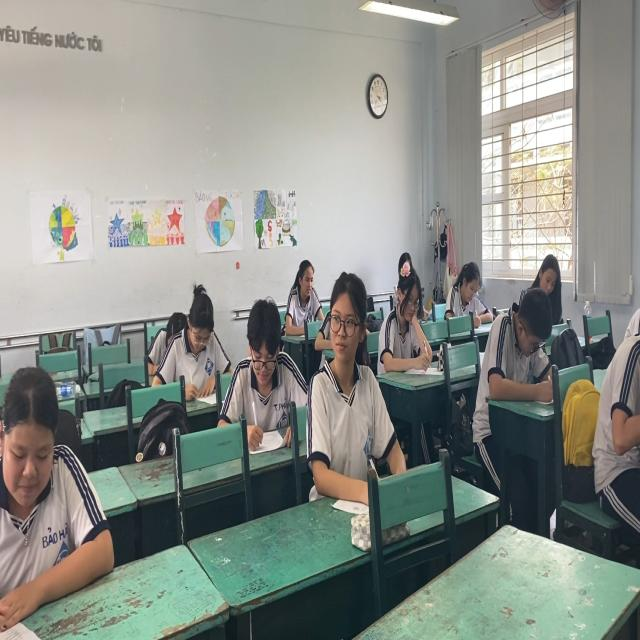cheating: (310, 276, 382, 465)
not_cheating: (0, 356, 119, 628), (230, 300, 300, 438), (160, 279, 224, 382), (490, 292, 550, 400), (378, 255, 430, 375), (432, 262, 491, 327), (286, 251, 323, 341), (536, 248, 562, 313)
